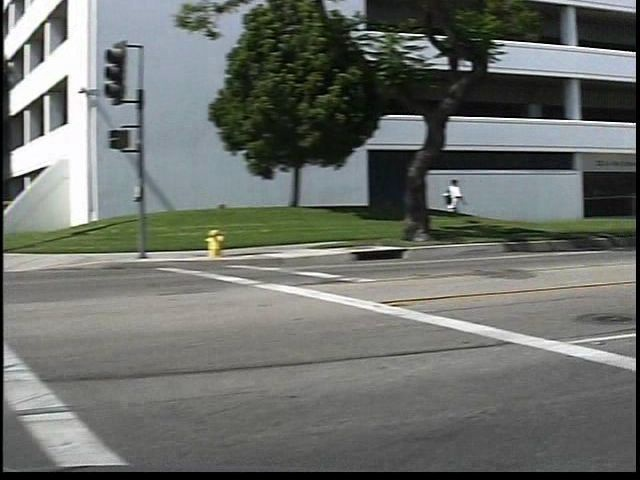person: (459, 174, 483, 235)
